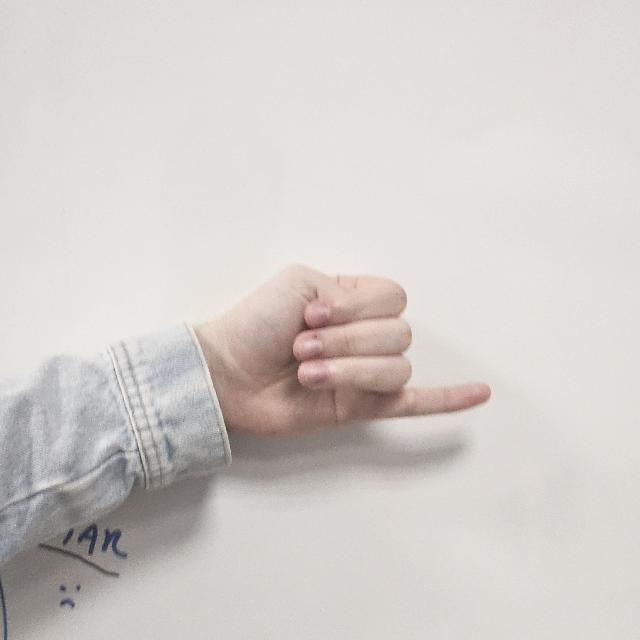Esquerda: (198, 233, 514, 455)
